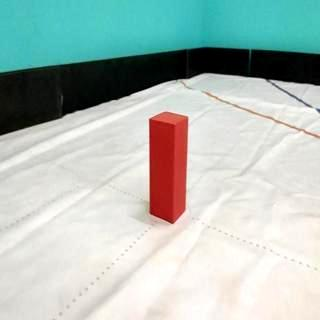redbox: (148, 111, 190, 226)
